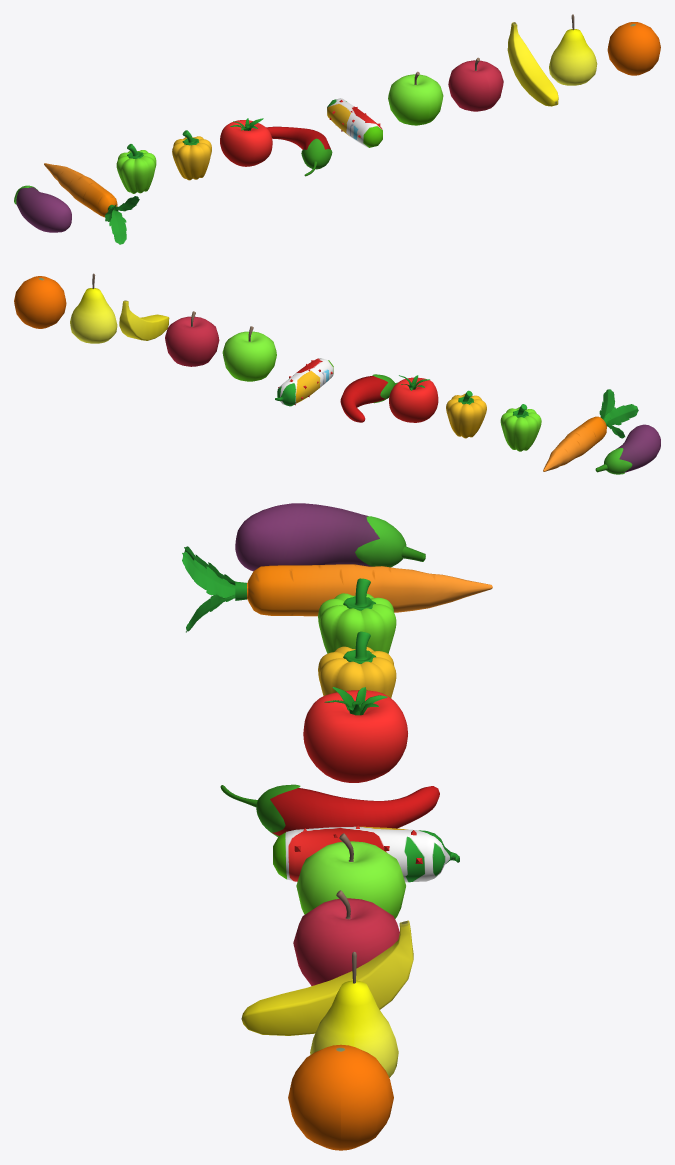
File: Fruit.fbx
3 views of the same model, one above another, from view 1: azimuth 30°, elevation 25°; view 2: azimuth 150°, elevation 25°; view 3: azimuth 270°, elevation 25° (orthographic). The views are drawn at different scales.
Visible parts, largest first — view 1: Out_Carrot, Out_RedApple, Out_GreenApple, Out_Orange, Out_Pear, Out_Tomato, Out_Banana, Eggplant.057, Out_Cucumber, Out_Pepper, Green_Pepper, Yellow_Pipper; view 2: Out_Carrot, Out_GreenApple, Out_RedApple, Out_Orange, Out_Pear, Out_Tomato, Eggplant.057, Out_Cucumber, Out_Pepper, Green_Pepper, Yellow_Pipper, Out_Banana; view 3: Out_Carrot, Eggplant.057, Out_Orange, Out_Tomato, Out_RedApple, Out_Banana, Out_Pepper, Out_GreenApple, Out_Cucumber, Out_Pear, Green_Pepper, Yellow_Pipper.
Boxes of the visible parts, left/top/right/bottom form: Out_Carrot: left=44, top=163, right=139, bottom=244; Out_RedApple: left=448, top=57, right=503, bottom=111; Out_GreenApple: left=388, top=71, right=443, bottom=125; Out_Orange: left=607, top=22, right=660, bottom=75; Out_Pear: left=549, top=14, right=597, bottom=85; Out_Tomato: left=220, top=118, right=272, bottom=166; Out_Banana: left=507, top=22, right=558, bottom=106; Eggplant.057: left=14, top=185, right=71, bottom=232; Out_Cucumber: left=327, top=98, right=382, bottom=147; Out_Pepper: left=266, top=126, right=332, bottom=176; Green_Pepper: left=116, top=144, right=156, bottom=193; Yellow_Pipper: left=172, top=130, right=211, bottom=180; Out_Carrot: left=543, top=389, right=638, bottom=471; Out_GreenApple: left=222, top=326, right=276, bottom=381; Out_RedApple: left=165, top=311, right=219, bottom=366; Out_Orange: left=14, top=276, right=66, bottom=328; Out_Pear: left=70, top=273, right=117, bottom=343; Out_Tomato: left=389, top=375, right=438, bottom=422; Eggplant.057: left=595, top=424, right=660, bottom=474; Out_Cucumber: left=275, top=358, right=333, bottom=406; Out_Pepper: left=340, top=374, right=397, bottom=422; Green_Pepper: left=500, top=404, right=541, bottom=451; Yellow_Pipper: left=446, top=390, right=486, bottom=438; Out_Banana: left=119, top=300, right=169, bottom=340; Out_Carrot: left=182, top=546, right=492, bottom=632; Eggplant.057: left=235, top=503, right=425, bottom=571; Out_Orange: left=288, top=1044, right=393, bottom=1150; Out_Tomato: left=303, top=687, right=407, bottom=782; Out_RedApple: left=293, top=890, right=399, bottom=985; Out_Banana: left=241, top=920, right=413, bottom=1035; Out_Pepper: left=220, top=784, right=439, bottom=836; Out_GreenApple: left=296, top=833, right=405, bottom=918; Out_Cucumber: left=273, top=825, right=459, bottom=882; Out_Pear: left=310, top=951, right=398, bottom=1077; Green_Pepper: left=318, top=578, right=396, bottom=653; Yellow_Pipper: left=318, top=631, right=396, bottom=698.
Bounding box in the file's own units: 1715 × 201 × 367.
